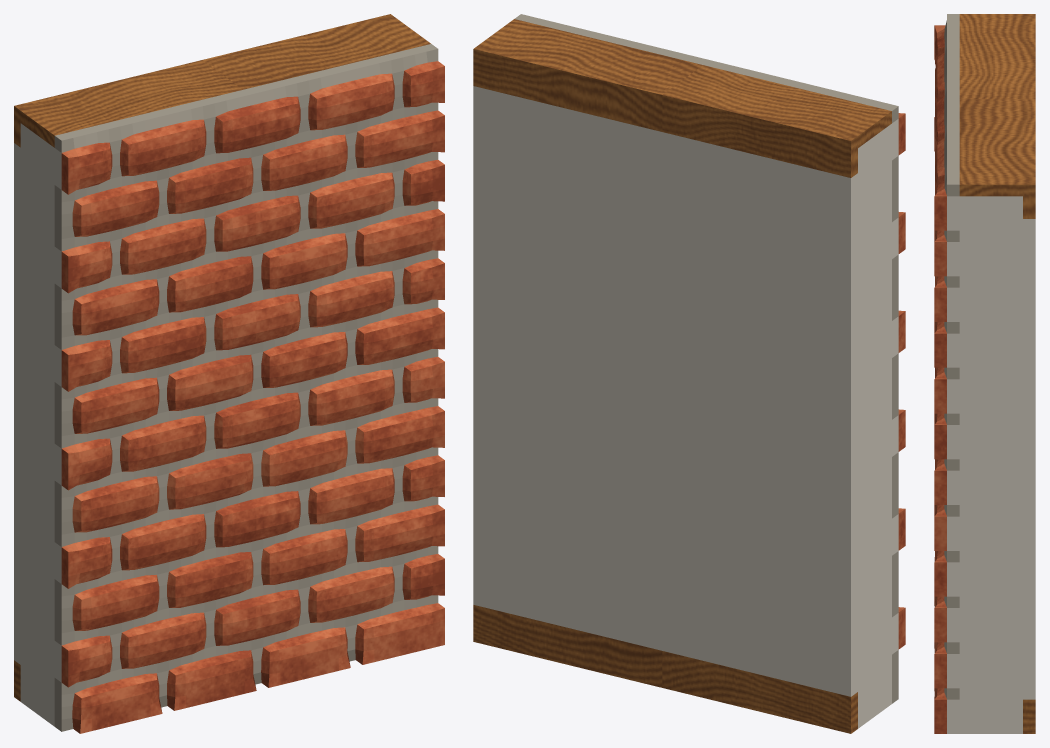
File: wall_out_brick.glb
3 views of the same model, side by side, from view 1: azimuth 30°, elevation 25°; view 2: azimuth 150°, elevation 25°; view 3: azimuth 270°, elevation 25° (orthographic). The views are drawn at different scales.
Parts seen in each view (by area): view 1: town_wall_out_brick; view 2: town_wall_out_brick; view 3: town_wall_out_brick.
Boxes of the visible parts, x1,y1,x2,y2 form: town_wall_out_brick: (14,14,444,733); town_wall_out_brick: (473,14,905,733); town_wall_out_brick: (934,14,1035,733).
Bounding box in the file's own units: 1 × 1.5 × 0.25.
Materials: 3 (1 with a texture image).
